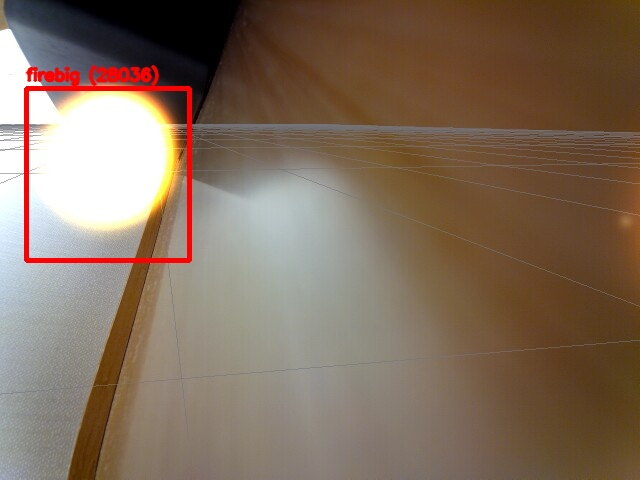firebig: (26, 88, 189, 260)
